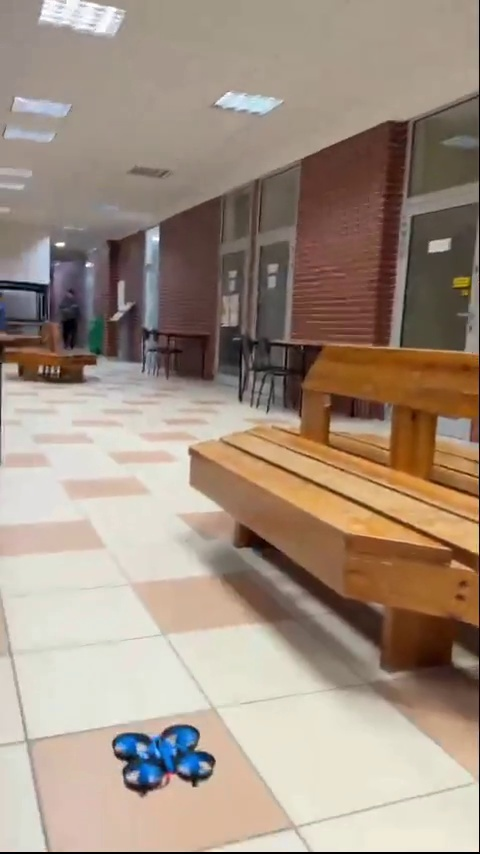drone: (116, 733, 212, 791)
no vest: (56, 288, 90, 354)
